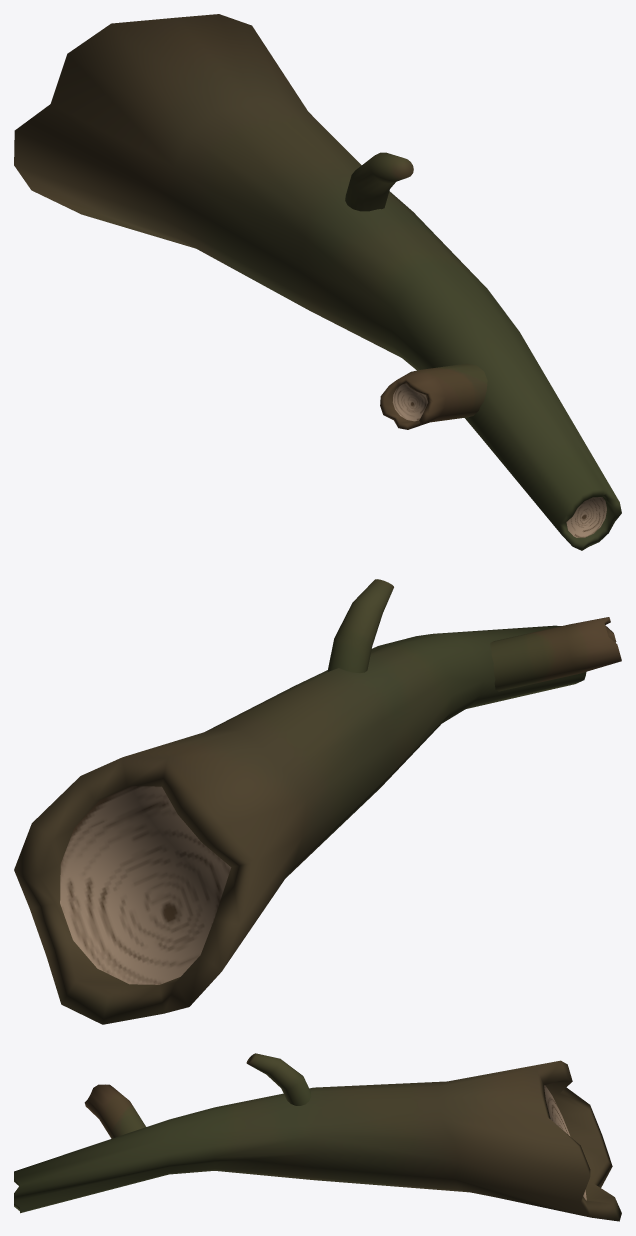
The model's file is Trunk_3.fbx.
3 renders of one model, top to bottom at view 1: azimuth 30°, elevation 25°; view 2: azimuth 150°, elevation 25°; view 3: azimuth 270°, elevation 25°, orthographic. The views are drawn at different scales.
Visible parts, largest first — view 1: Trunk 3; view 2: Trunk 3; view 3: Trunk 3.
Boxes of the visible parts, x1,y1,x2,y2 form: Trunk 3: (14, 14, 621, 550); Trunk 3: (14, 579, 621, 1024); Trunk 3: (14, 1053, 621, 1221).
Size of the model in its own units: 648 by 619 by 2145.
